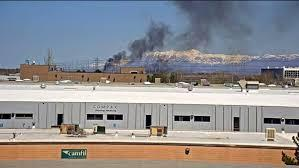smoke: (98, 0, 299, 75)
